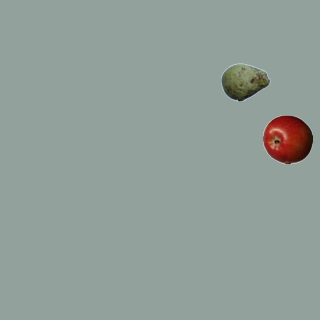Apple Braeburn: (262, 114, 312, 164)
Pear Stone: (220, 57, 270, 107)
